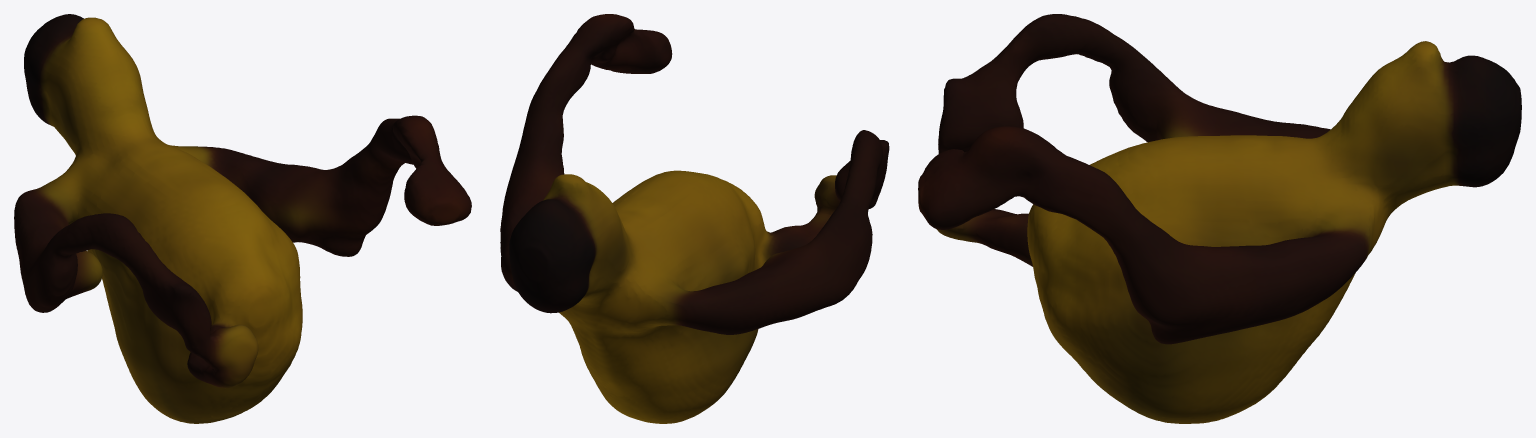
The picture shows the model from 3 angles, left to right: view 1: azimuth 30°, elevation 25°; view 2: azimuth 150°, elevation 25°; view 3: azimuth 270°, elevation 25°; orthographic projection. The views are drawn at different scales.
Visible parts, largest first — view 1: plyFile; view 2: plyFile; view 3: plyFile.
Boxes of the visible parts, x1,y1,x2,y2 form: plyFile: (14, 14, 471, 423); plyFile: (500, 14, 889, 423); plyFile: (918, 14, 1521, 423).
Bounding box in the file's own units: 154 × 133 × 198.
